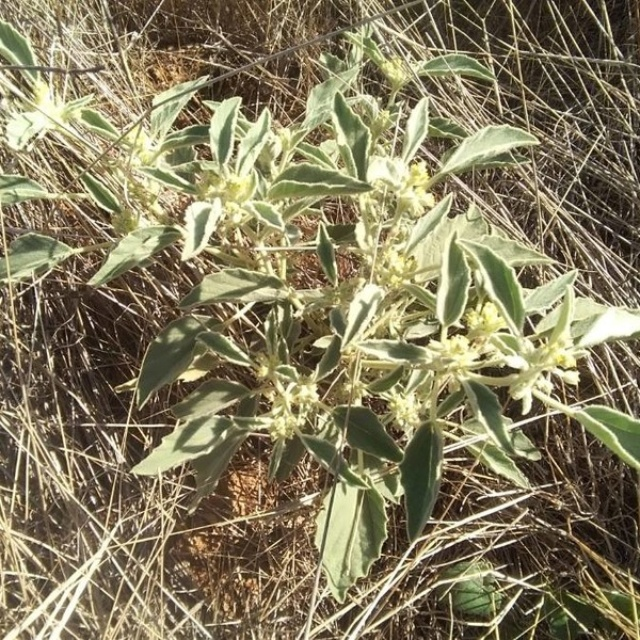obstacle: (144, 62, 562, 535)
